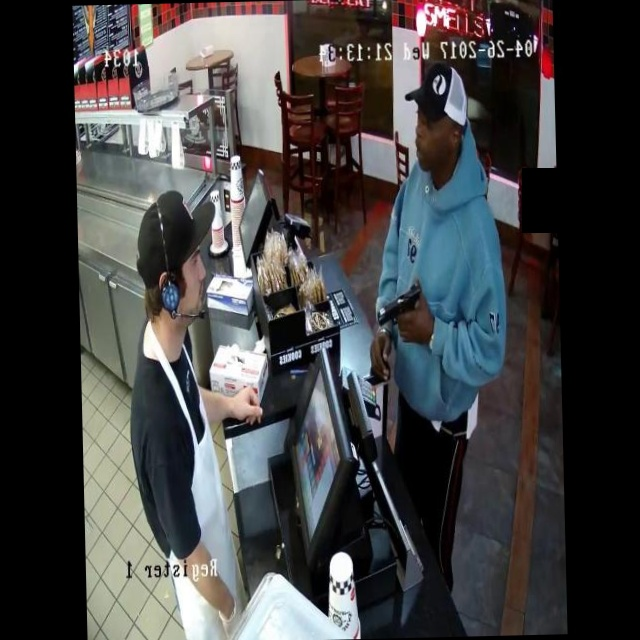gun: (367, 269, 438, 337)
